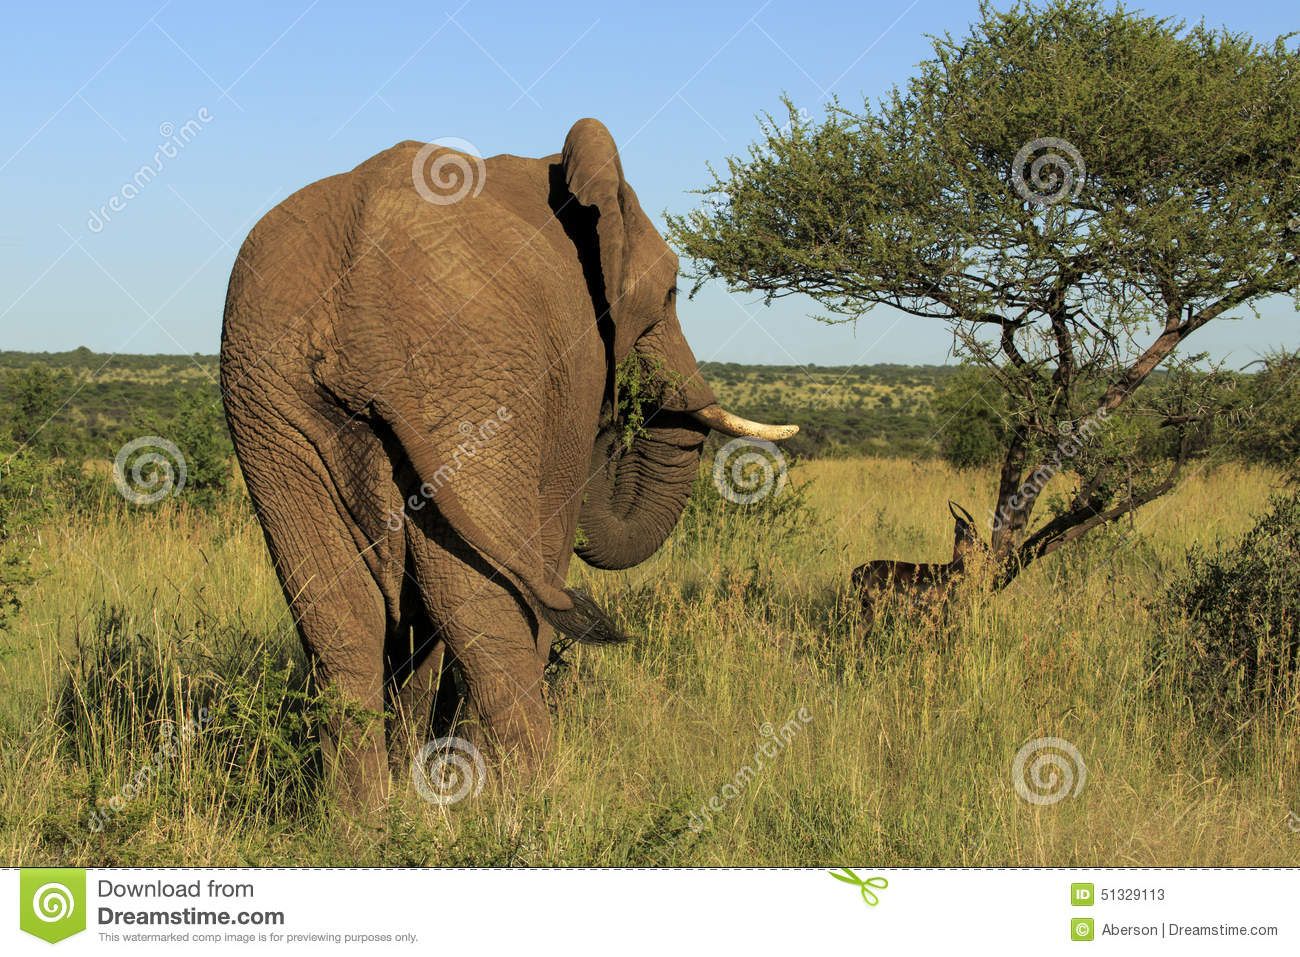elephant: (223, 111, 806, 817)
